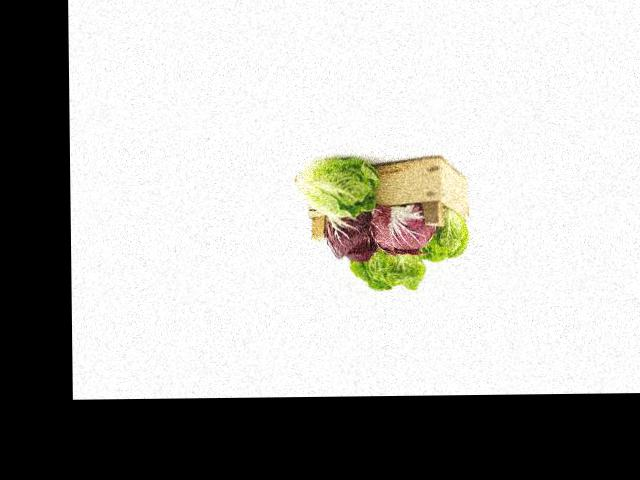lettuce: (312, 143, 483, 245)
